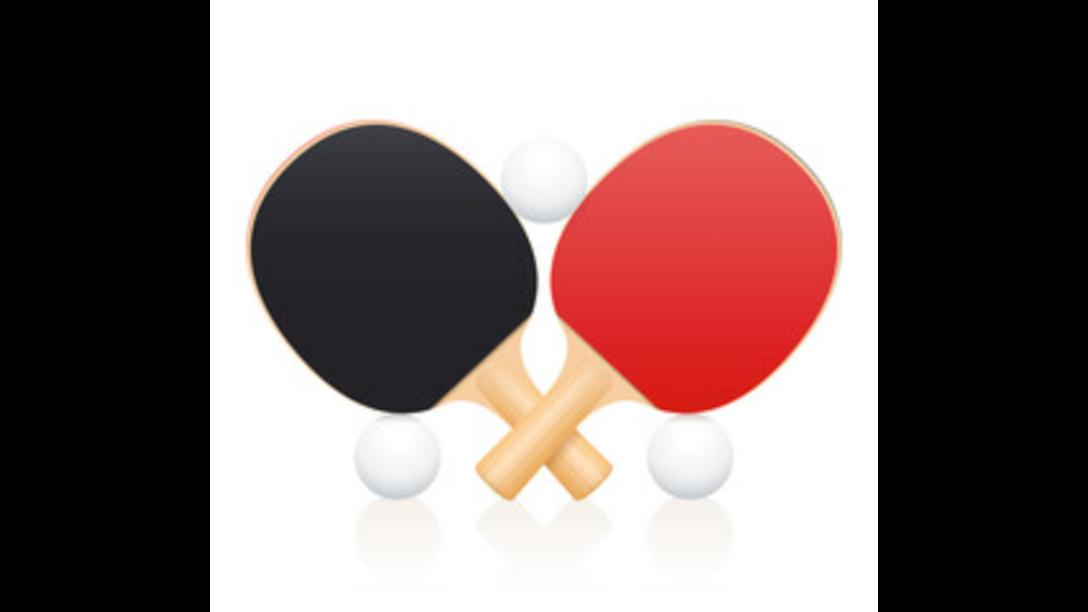Table-Tennis-Ball: (501, 137, 591, 223), (354, 414, 438, 498), (648, 416, 732, 498)
